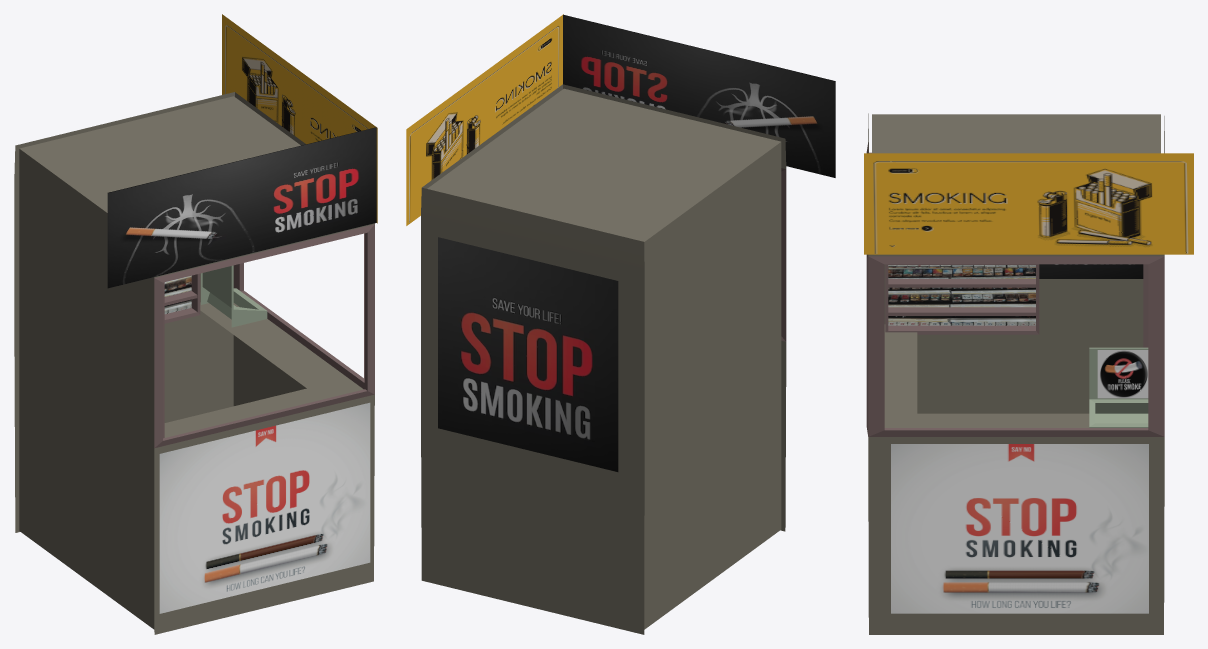
The model's file is Cigareete stall fbx.fbx.
3 renders of one model, left to right at view 1: azimuth 30°, elevation 25°; view 2: azimuth 150°, elevation 25°; view 3: azimuth 270°, elevation 25°, orthographic. The views are drawn at different scales.
Parts seen in each view (by area): view 1: polySurface29, polySurface30, polySurface39, polySurface42, polySurface34, polySurface46; view 2: polySurface29, polySurface38, polySurface39, polySurface42; view 3: polySurface29, polySurface36, polySurface42, polySurface28, polySurface40, polySurface34, polySurface47, polySurface35, polySurface44, polySurface46.
Part boxes in pixels (left/top/right/bottom): polySurface29: left=14, top=92, right=374, bottom=634; polySurface30: left=159, top=402, right=370, bottom=613; polySurface39: left=107, top=127, right=376, bottom=288; polySurface42: left=222, top=14, right=377, bottom=223; polySurface34: left=201, top=265, right=267, bottom=327; polySurface46: left=164, top=273, right=200, bottom=323; polySurface29: left=421, top=84, right=786, bottom=634; polySurface38: left=438, top=237, right=618, bottom=471; polySurface39: left=563, top=14, right=835, bottom=177; polySurface42: left=406, top=14, right=563, bottom=225; polySurface29: left=866, top=113, right=1164, bottom=634; polySurface36: left=891, top=444, right=1148, bottom=613; polySurface42: left=864, top=153, right=1193, bottom=254; polySurface28: left=885, top=264, right=1039, bottom=334; polySurface40: left=1097, top=350, right=1148, bottom=398; polySurface34: left=1089, top=347, right=1148, bottom=427; polySurface47: left=1039, top=264, right=1143, bottom=278; polySurface35: left=888, top=307, right=1035, bottom=315; polySurface44: left=888, top=279, right=1035, bottom=287; polySurface46: left=1143, top=264, right=1148, bottom=347.
Size of the model in its own units: 8.79 by 14.18 by 8.79.
